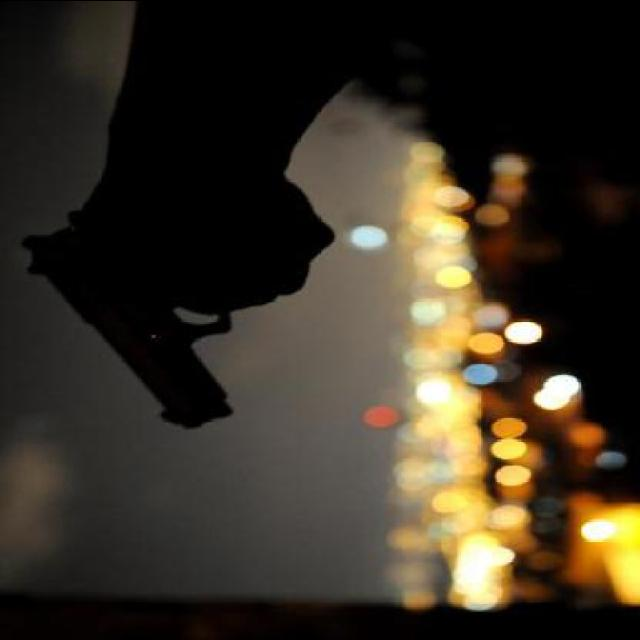pistol: (18, 209, 337, 430)
